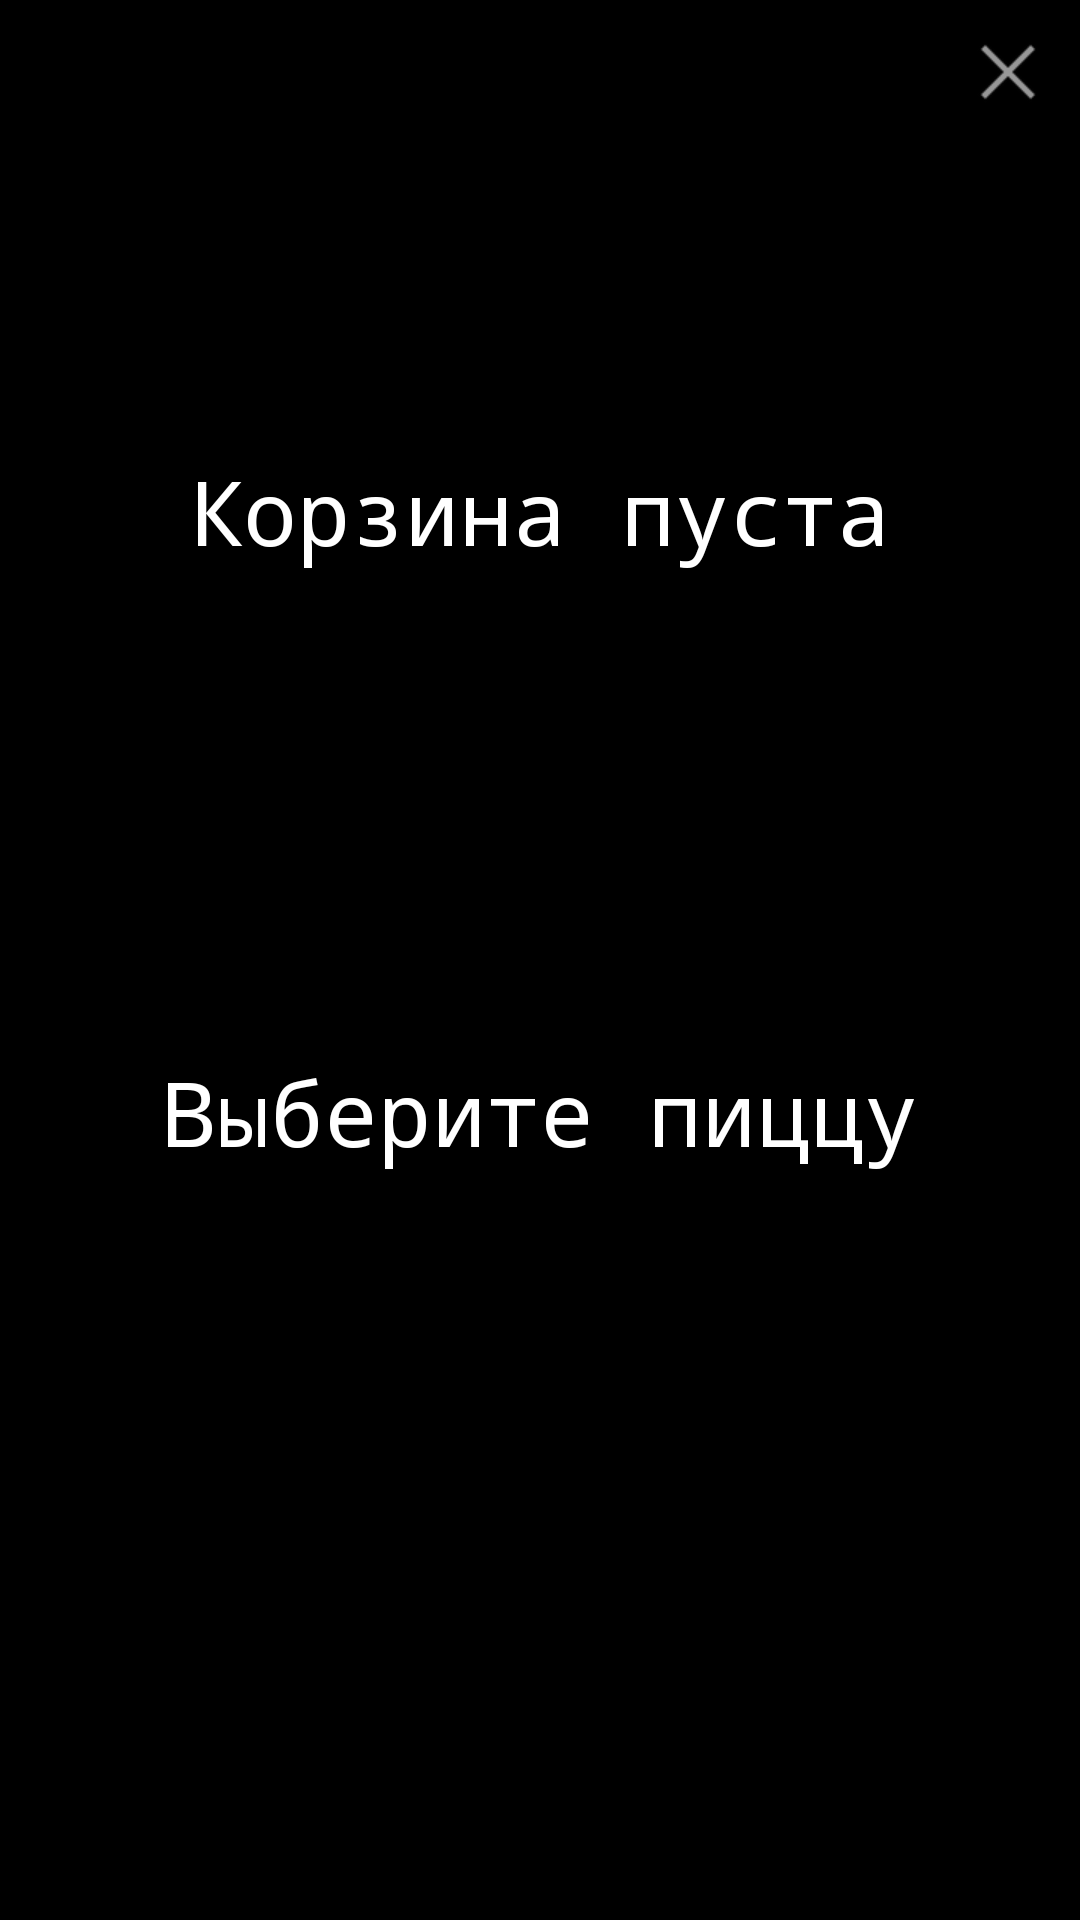

Named icons in this screenshot (1080 × 1920) and their centers, point (x, y):
close clear cancel: point (1008, 72)
